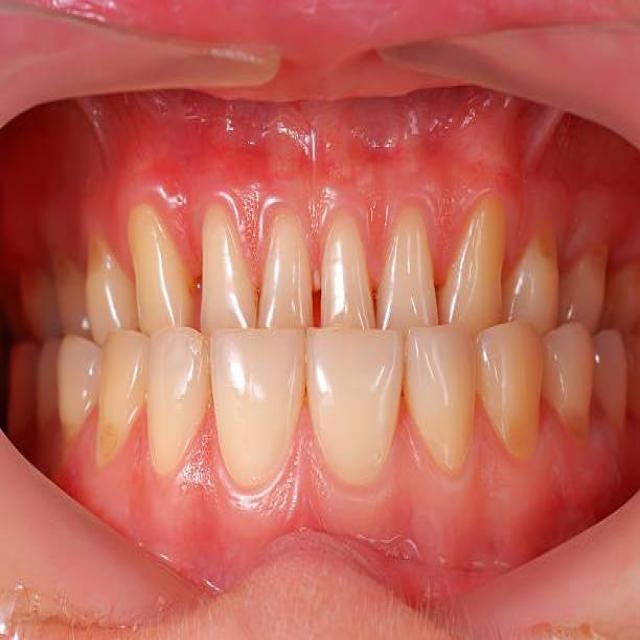caries: (93, 418, 140, 488), (518, 211, 562, 278), (574, 237, 610, 303)
